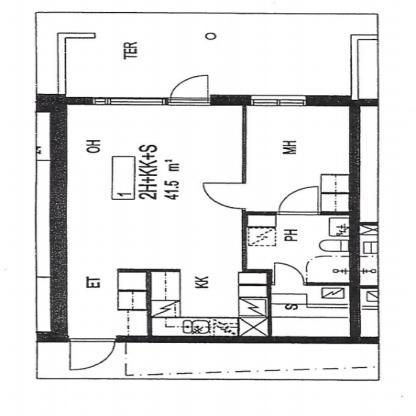bathroom: (243, 214, 360, 340)
door: (64, 335, 124, 374), (273, 185, 324, 220), (165, 73, 214, 108), (197, 180, 250, 208), (272, 260, 312, 288)
perimeter: (56, 98, 356, 341)
window: (89, 95, 167, 110), (247, 92, 311, 110)
